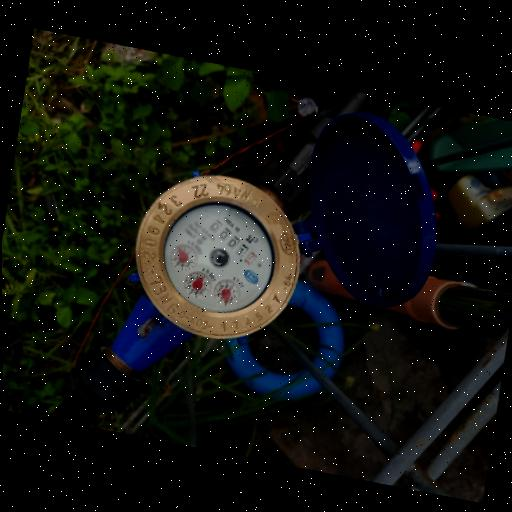0: (216, 226, 231, 243), (208, 218, 223, 234), (226, 233, 240, 250)
1: (234, 242, 249, 259)
7: (242, 248, 257, 267)
border_water_meter_number: (201, 215, 267, 272)
